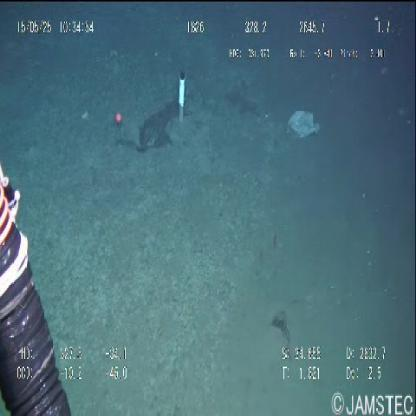Rác: (287, 109, 321, 139)
